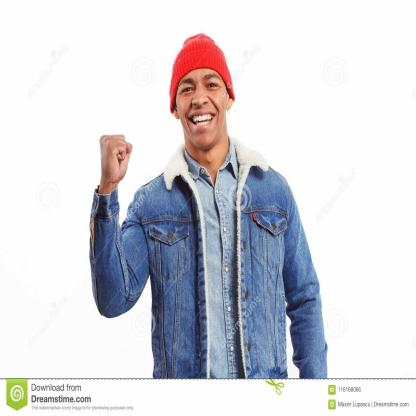fist: (97, 132, 132, 184)
